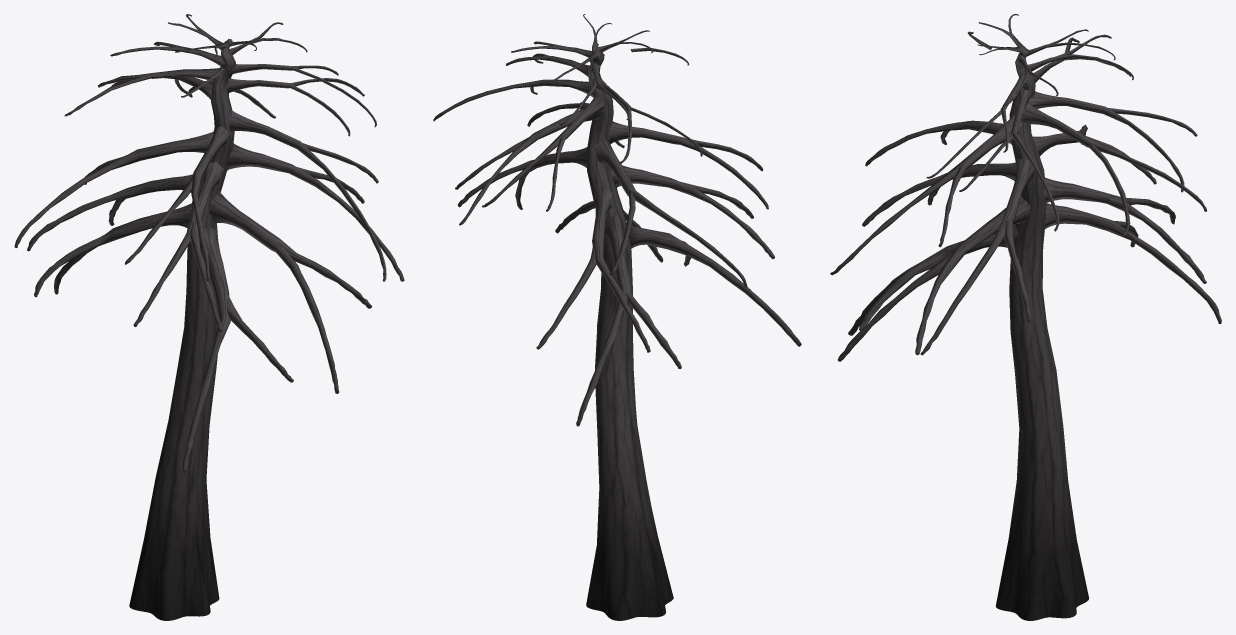
Rendered from DeadTree_4.gltf.
The picture shows the model from 3 angles, left to right: view 1: azimuth 30°, elevation 25°; view 2: azimuth 150°, elevation 25°; view 3: azimuth 270°, elevation 25°; orthographic projection. The views are drawn at different scales.
Visible parts, largest first — view 1: DeadTree_4; view 2: DeadTree_4; view 3: DeadTree_4.
Part boxes in pixels (bbox=[...]): DeadTree_4: bbox=[14, 14, 404, 620]; DeadTree_4: bbox=[433, 14, 801, 620]; DeadTree_4: bbox=[830, 14, 1221, 620].
Bounding box in the file's own units: 7.96 × 12.77 × 7.73.
Materials: 1 (1 with a texture image).
